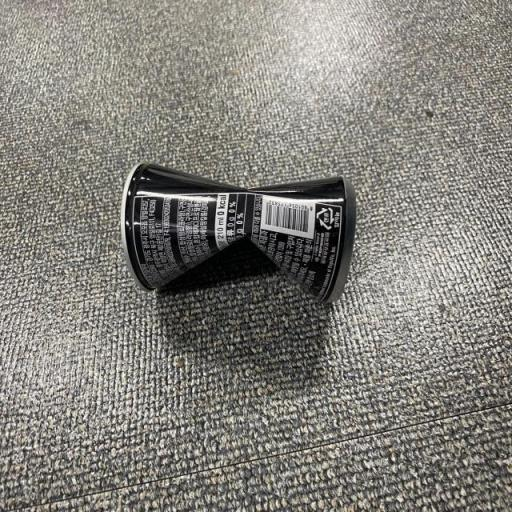metal: (92, 135, 421, 343)
